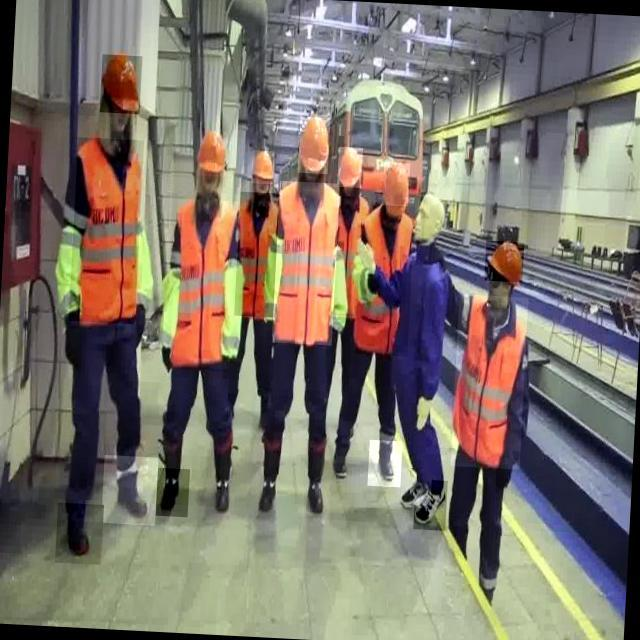Gloves: (49, 306, 96, 368), (129, 292, 149, 351), (154, 340, 183, 377), (489, 454, 517, 491), (213, 353, 244, 374)
Helmet: (100, 55, 143, 115), (298, 117, 331, 175), (382, 163, 411, 222), (485, 241, 525, 283), (196, 131, 228, 179), (337, 148, 363, 189), (252, 151, 275, 185)
Person: (34, 41, 160, 615), (435, 224, 563, 619), (249, 99, 352, 550), (157, 115, 248, 546), (355, 144, 433, 529)
Safety Boot: (102, 455, 159, 526), (55, 502, 104, 565), (251, 440, 286, 515), (300, 436, 329, 522), (204, 459, 238, 518), (156, 468, 190, 518), (368, 440, 403, 488), (331, 429, 358, 483)
Safety Vest: (69, 137, 145, 324), (451, 295, 529, 470), (169, 199, 238, 370), (272, 181, 340, 346), (355, 204, 415, 357), (235, 192, 281, 318), (333, 197, 369, 318), (53, 223, 88, 335), (218, 264, 245, 367), (160, 264, 189, 348), (325, 245, 349, 332), (136, 219, 158, 311), (257, 243, 283, 319), (357, 246, 382, 309)
